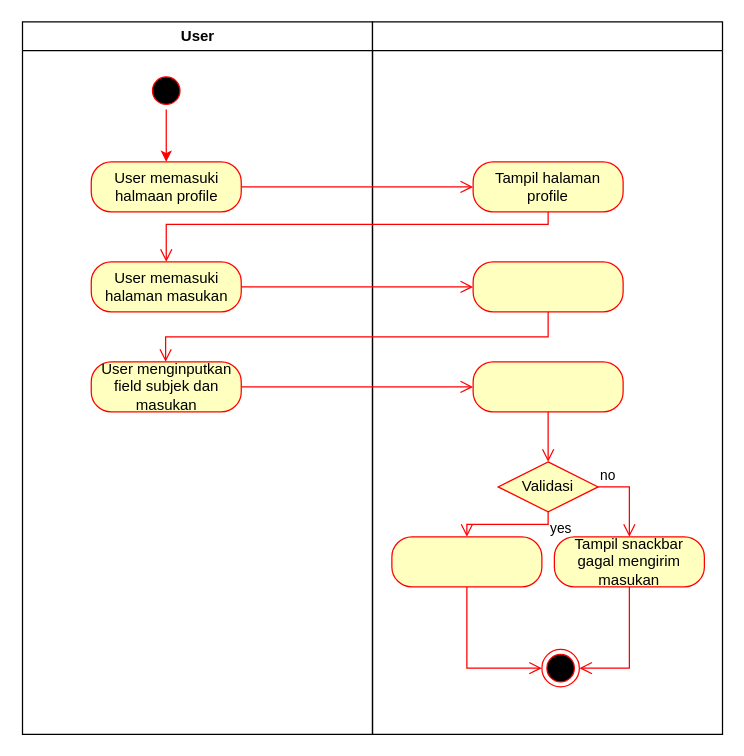
Image size: 744x756. Some labels were removed from this diagram. The box of each missing label's shape, as (x1, y1, x2, y2) in pixels:
System: (371, 21, 722, 734)
Tampil halaman masukan: (472, 261, 623, 312)
Tampil snackbar sukses mengirim masukan: (391, 536, 542, 587)
Terima inputan dari user dan kirimkan ke third party: (472, 361, 623, 412)
